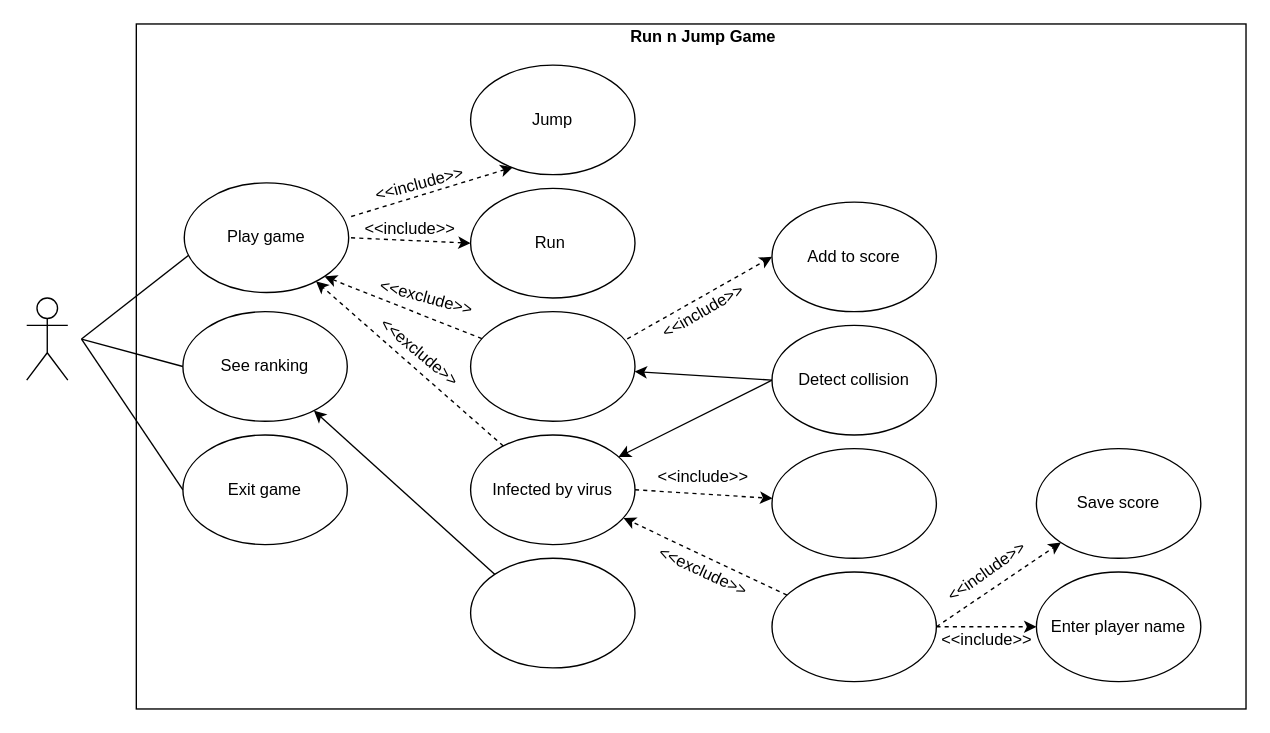
This 1270x733 diagram has some shape labels left out. Here are the shapes that lost their labels. From the top down, the centre of each, then its label:
At point 46,338: "Player".
At point 552,365: "Collect Items".
At point 853,502: "Check health points".
At point 552,612: "Sort by score".
At point 853,626: "Display Game Over".
